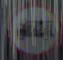Heavy Vehicles: (16, 10, 61, 48)
